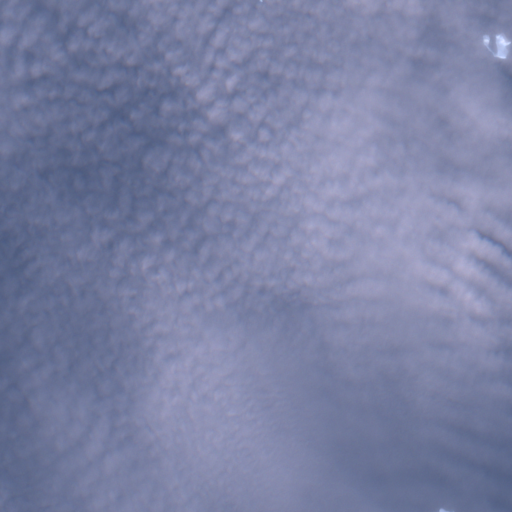Iceberg: (483, 34, 510, 58)
